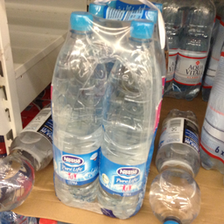water: (98, 18, 160, 218), (50, 9, 106, 205), (149, 107, 204, 224)
